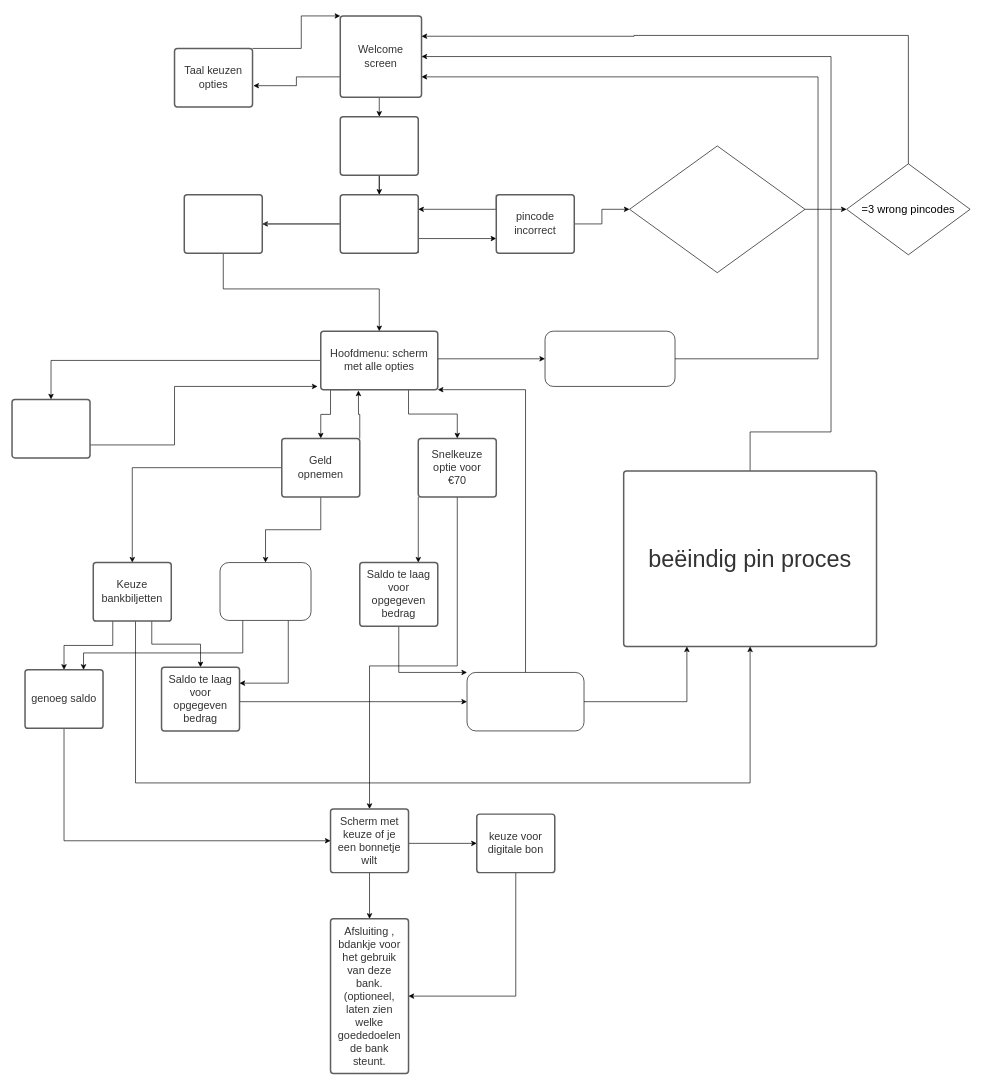
Some shapes in this 981 by 1086 pixel diagram are drawn without their labels. The centre of each missing label's shape, as x and y in pixels:
Geen voorkeur bankbiljetten: (265,591)
Login scherm om pincode in te voeren: (379,224)
onthoud hoevaak je de foute pincode hebt opgegeven: (717,209)
Pas scannen via de RFID reader: (379,146)
pincode correct: (223,224)
Saldo checken: (50,428)
U heeft € .... in uw bank account: (525,701)
uitloggen: (609,358)
